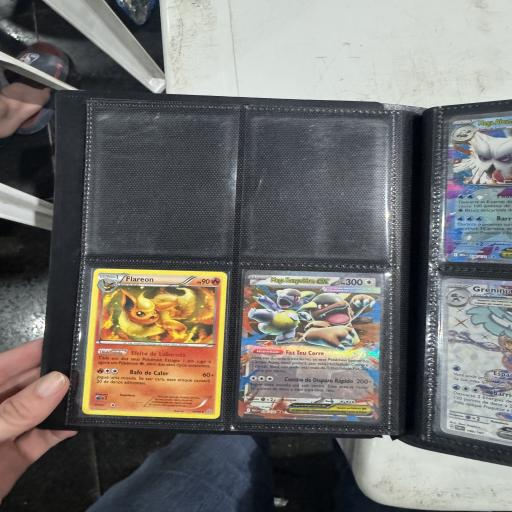card: (235, 269, 385, 426), (80, 265, 229, 420)
